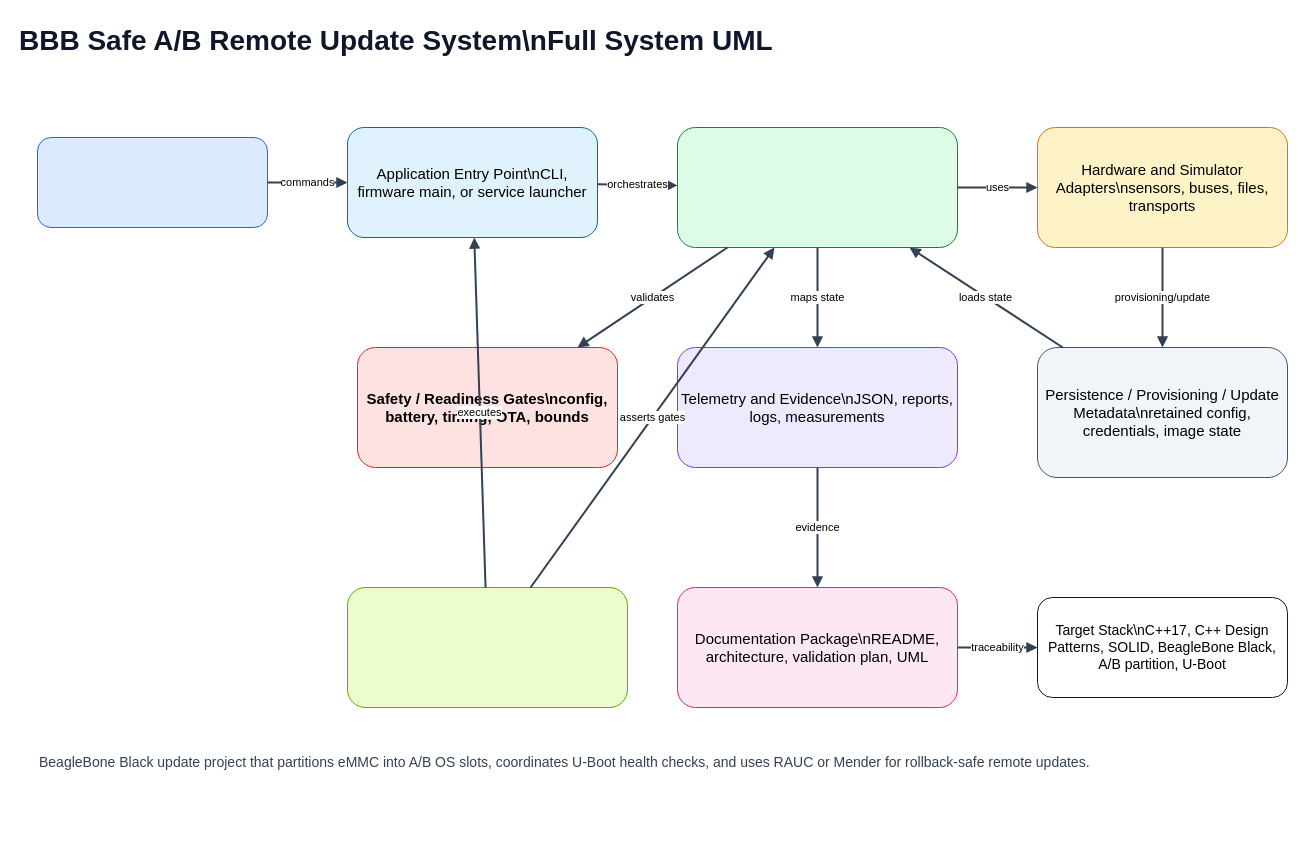
Some shapes in this 1305 by 844 pixel diagram are drawn without their labels. Each missing label, with the centre of its shape:
Domain / Control Core\nstate model, policy, orchestration: the point at 817,187
Operator / Cloud / Test Harness: the point at 152,182
Tests and CI\nCMake, CTest, smoke runs, expected failures: the point at 487,647
